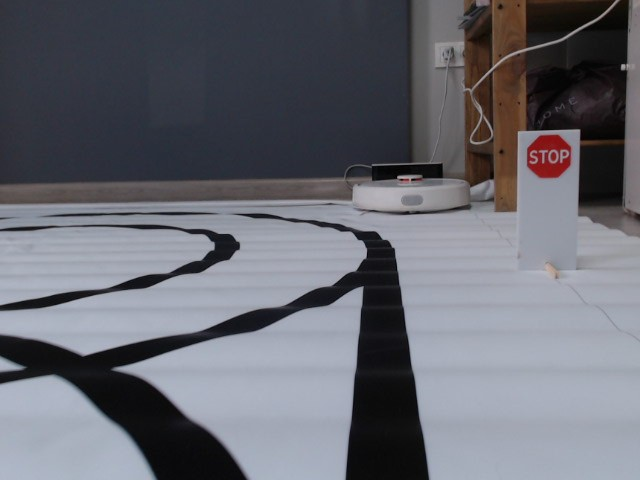Stop: (526, 134, 573, 177)
